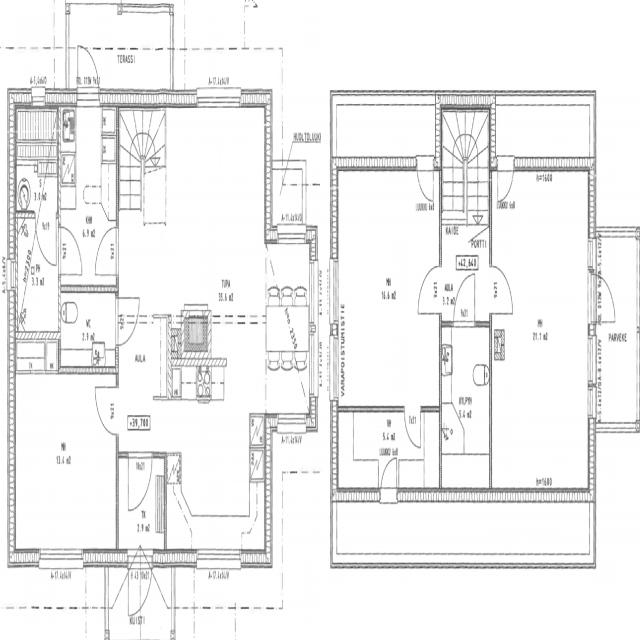door: (128, 550, 152, 622), (128, 452, 152, 512), (78, 40, 99, 106), (590, 274, 618, 322), (418, 266, 442, 313), (35, 212, 56, 265), (95, 227, 118, 275), (116, 297, 139, 345), (58, 226, 81, 274), (489, 266, 513, 312), (454, 272, 474, 327), (95, 388, 118, 433), (417, 157, 433, 208), (498, 157, 514, 207), (381, 451, 396, 502), (404, 405, 420, 449)
